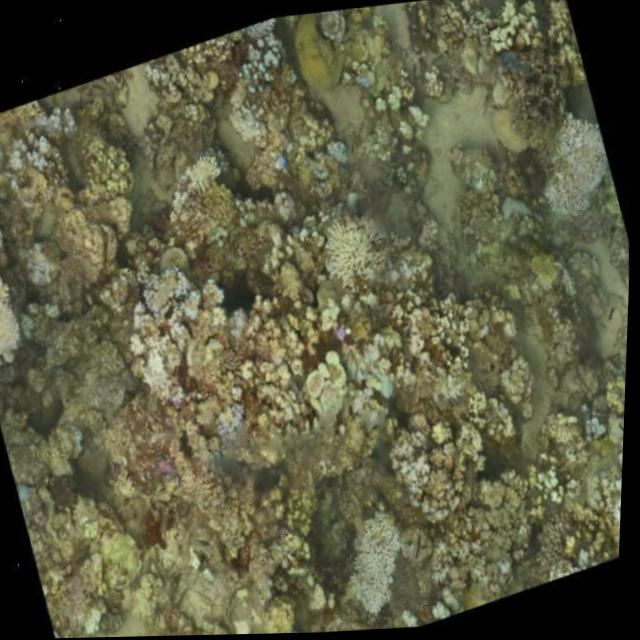Bleached Coral: (107, 255, 227, 409), (518, 107, 629, 245), (324, 482, 427, 625), (213, 22, 304, 138), (0, 88, 92, 182), (309, 204, 394, 298), (384, 410, 446, 508), (166, 140, 233, 219), (203, 379, 263, 463), (478, 0, 549, 62), (0, 247, 38, 361), (595, 452, 627, 559)
